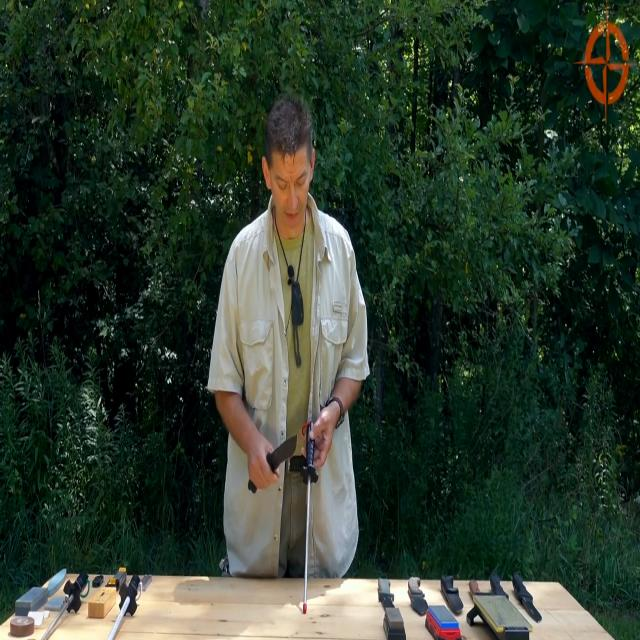knife: (512, 572, 547, 629), (407, 569, 431, 618), (440, 573, 468, 615)
